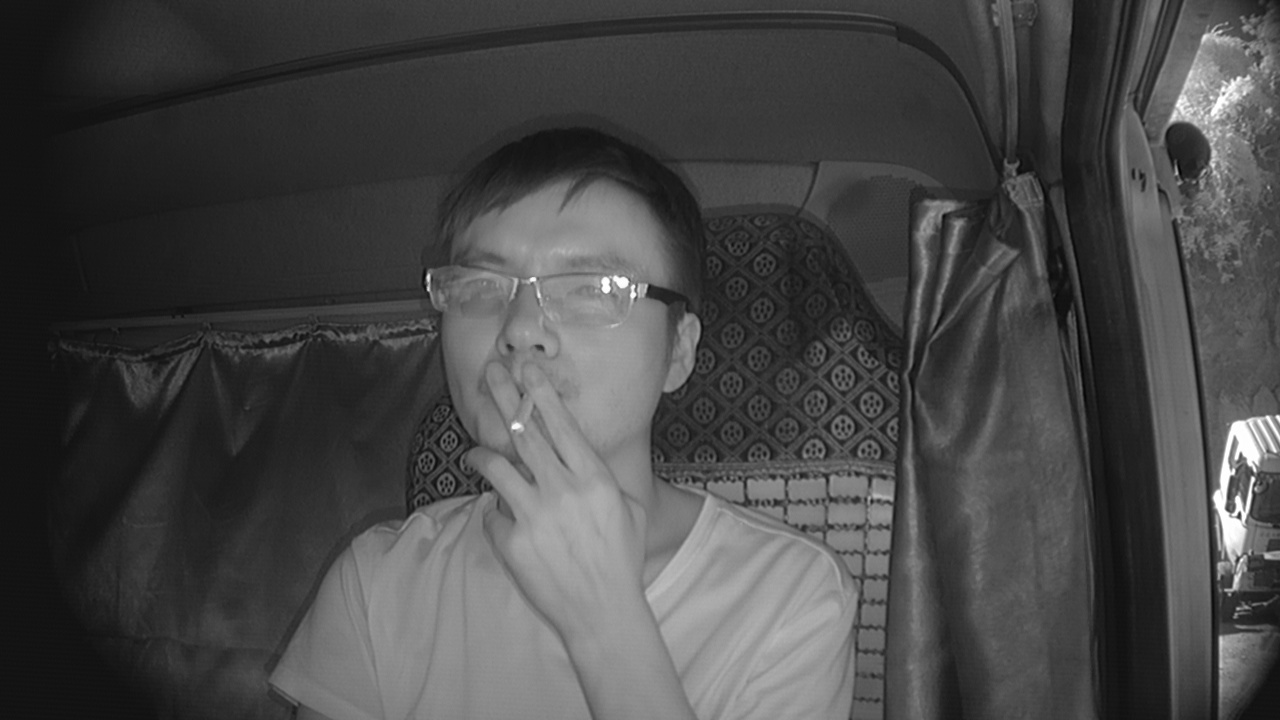hand: (471, 360, 634, 583)
